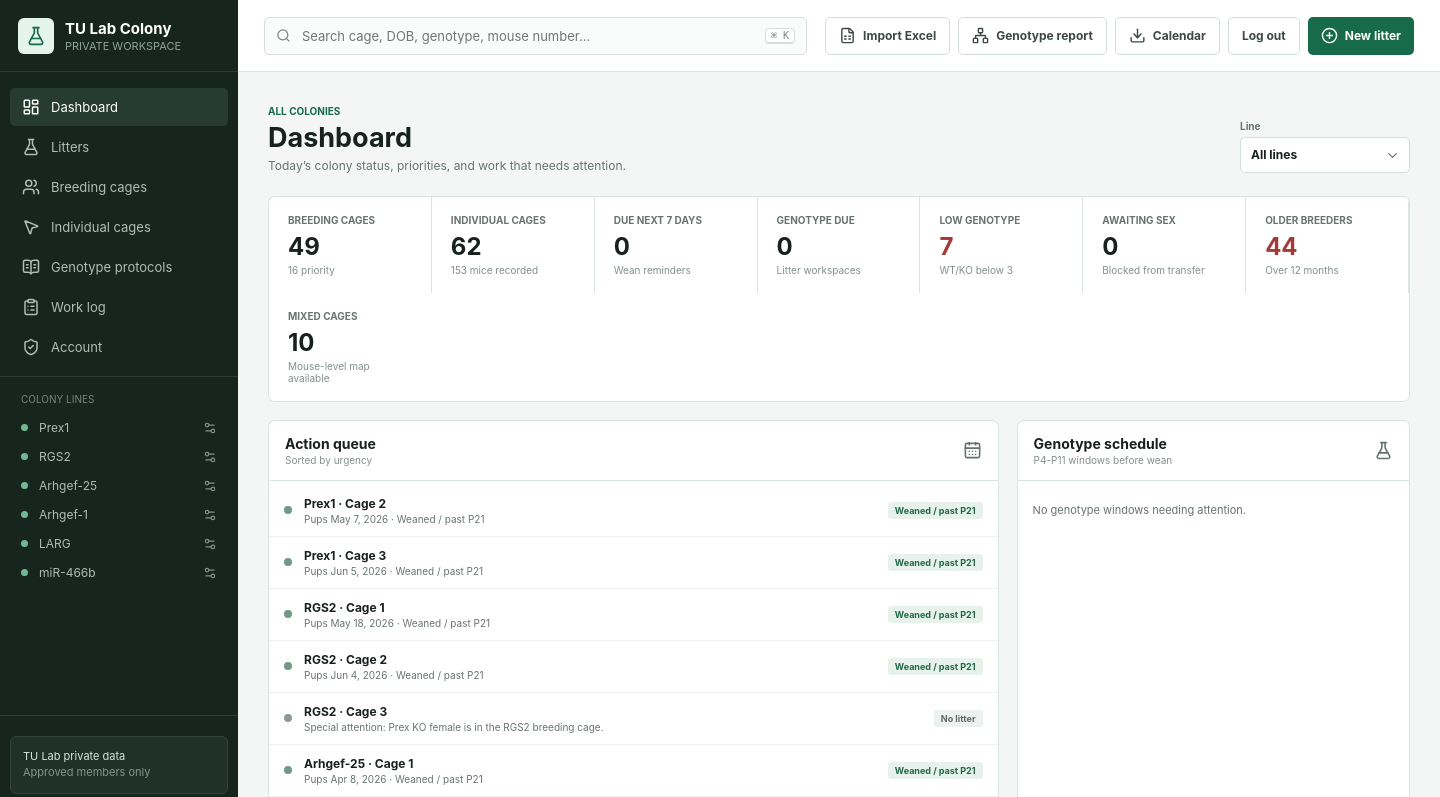
Test case: colony line filtering › opens and closes the current genotype summary report
Click the button "Genotype report".
click(1032, 36)  # box [958,16,1107,54]
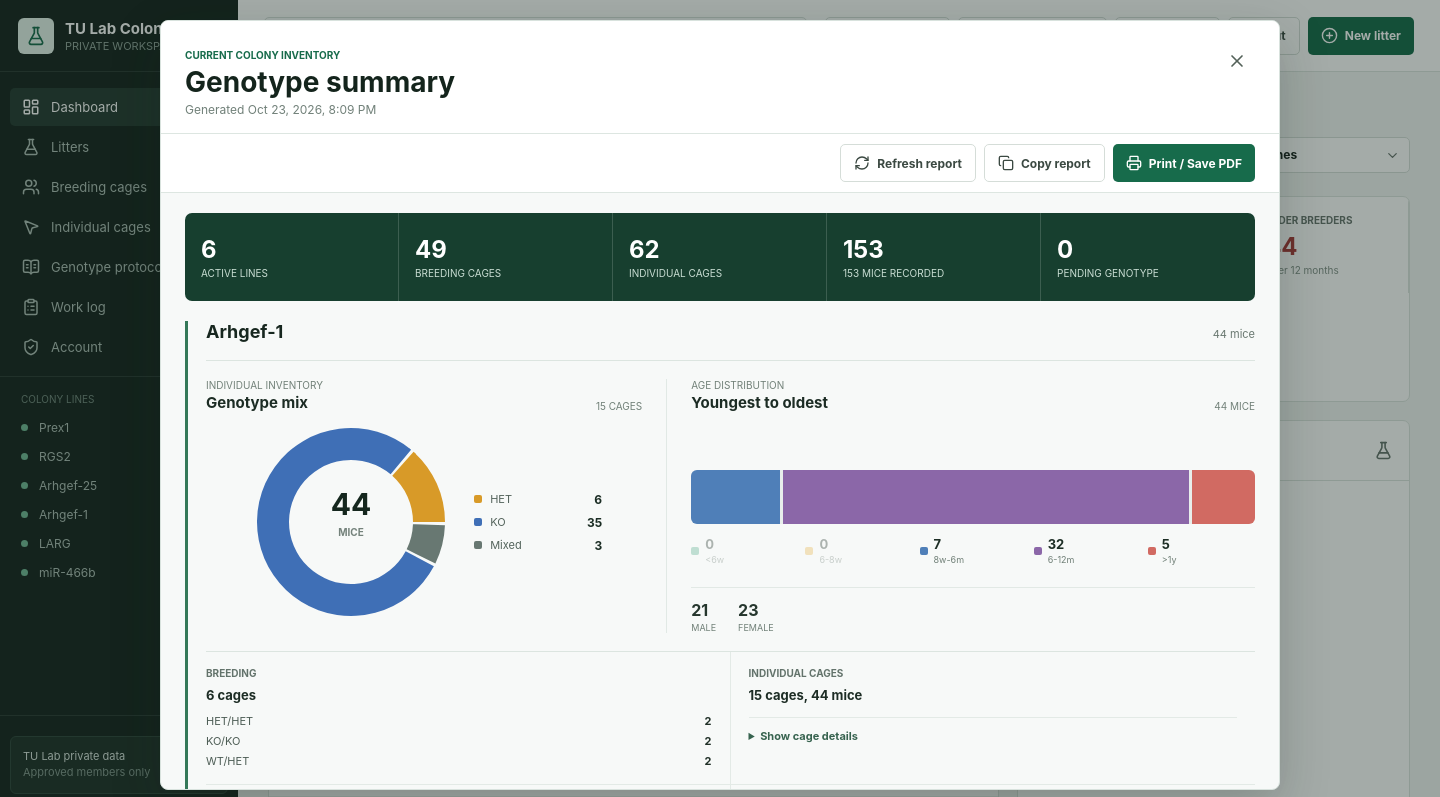
Expected: the heading "Genotype summary" is shown, [185,66,455,98]
Expected: the element named "Arhgef-1 genotype summary" is shown, [185,321,1255,789]
Click the button named "Close genotype report".
click(1237, 61)  # box [1219,43,1255,79]
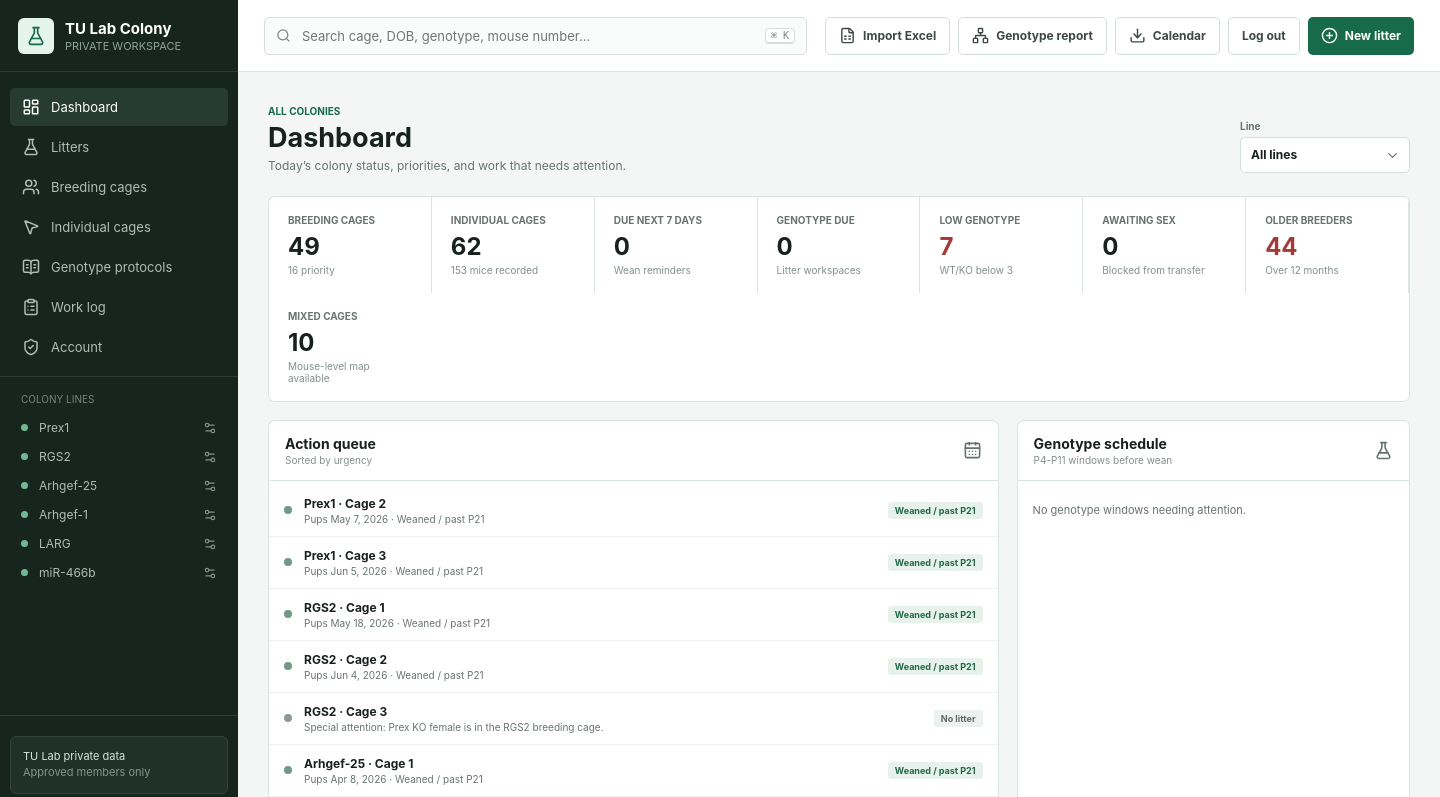
Expected: the heading "Genotype summary" is gone
